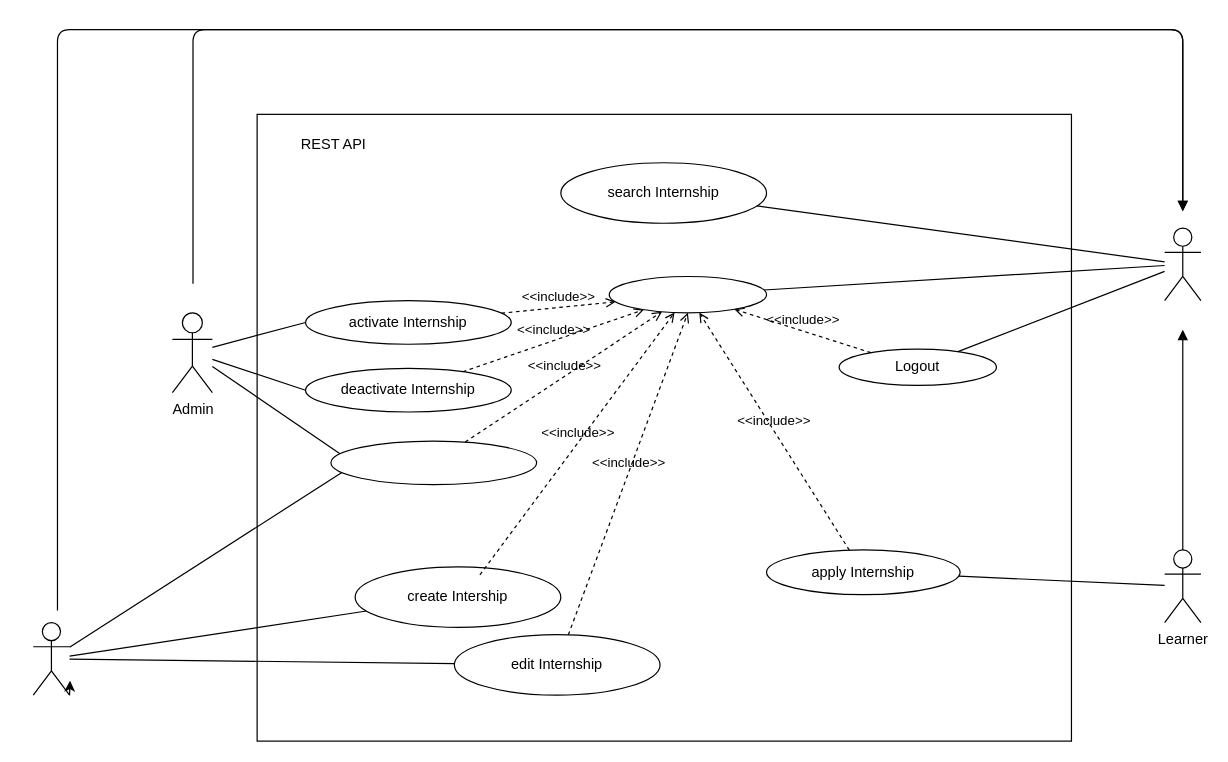
Image size: 1228x762. Some labels were removed from this diagram. The shapes that lost their labels are listed below. From the top down, each one's centre as x and y in pixels, then its label:
At (x=1182, y=264): "User".
At (x=687, y=294): "Login".
At (x=433, y=462): "delete Internship".
At (x=51, y=658): "Company".
